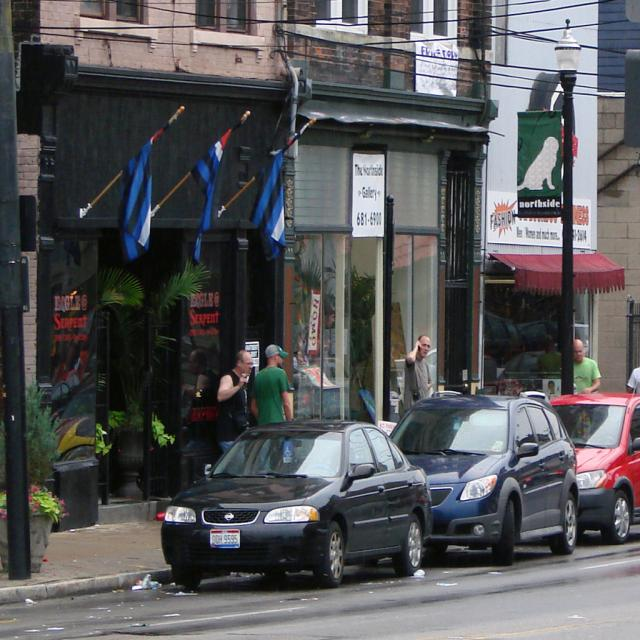car: (150, 424, 438, 595)
